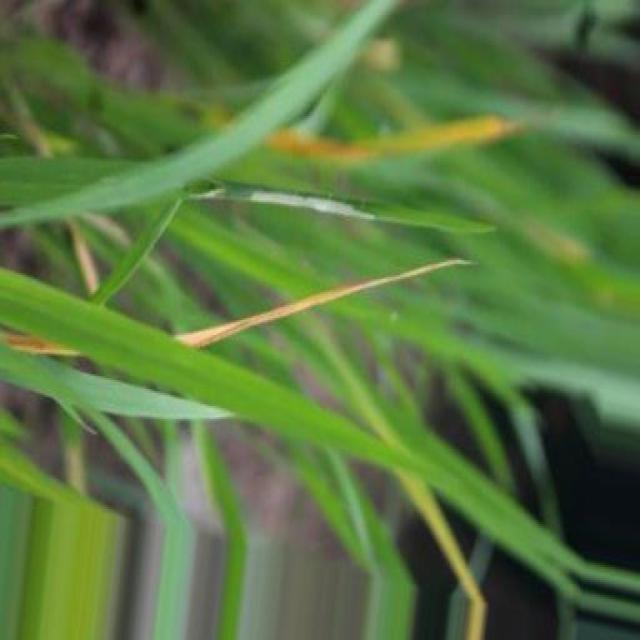Rice Tungro: (176, 262, 471, 347)
